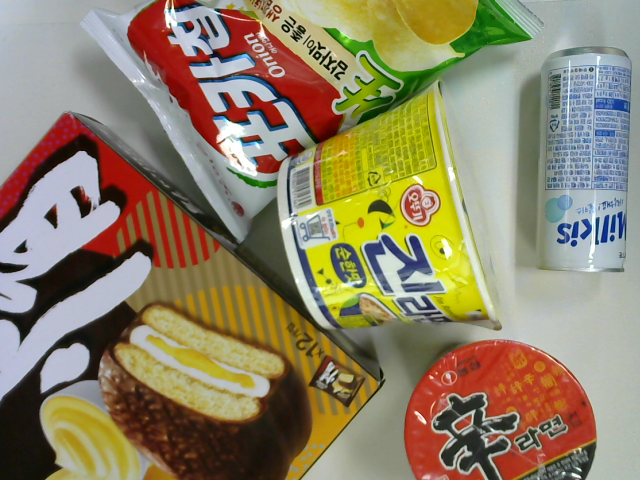Choco_Pie_Banana: (1, 109, 387, 480)
Jinlamyeon_Mild_Taste_Large_Cup: (278, 76, 504, 335)
Milkies_250ml: (536, 46, 632, 275)
Pocachip_Onion: (80, 1, 547, 246)
Sinramen_small: (403, 340, 599, 480)
